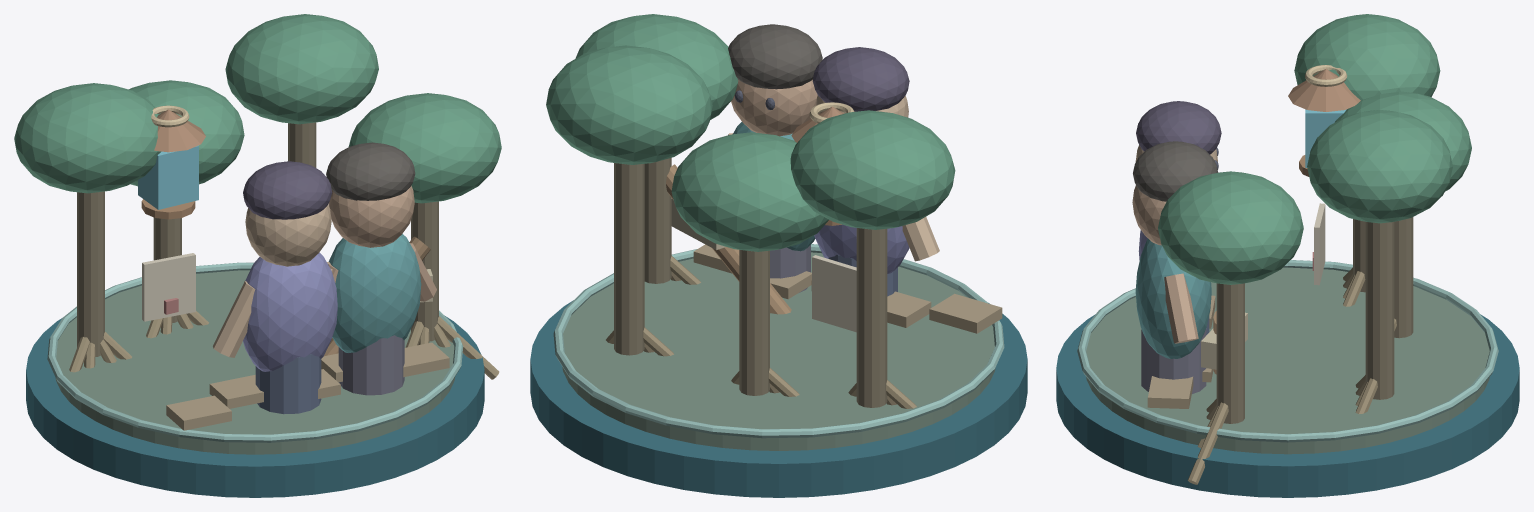
File: lanterns-of-luntian-bay-scene-2.glb
3 renders of one model, left to right at view 1: azimuth 30°, elevation 25°; view 2: azimuth 150°, elevation 25°; view 3: azimuth 270°, elevation 25°, orthographic. The views are drawn at different scales.
Visible parts, largest first — view 1: shore or habitat, deep water plinth, mangrove 2 canopy, mangrove 0 canopy, mangrove 3 canopy, Mira coat, Tomas coat, outer waterline, mangrove 1 canopy, mangrove 0 trunk, Mira hair, Tomas hair (+17 smaller); view 2: shore or habitat, deep water plinth, mangrove 2 canopy, mangrove 0 canopy, mangrove 1 canopy, outer waterline, mangrove 3 canopy, mangrove 2 trunk, mangrove 0 trunk, Mira hair, Tomas hair, mangrove 1 trunk (+12 smaller); view 3: shore or habitat, deep water plinth, mangrove 2 canopy, mangrove 3 canopy, mangrove 0 canopy, outer waterline, mangrove 2 trunk, Tomas coat, mangrove 3 trunk, mangrove 1 canopy, Tomas hair, Mira hair (+12 smaller).
Part boxes in pixels (x1,y1,x2,y2): shore or habitat: (55,270,454,454); deep water plinth: (26,315,484,497); mangrove 2 canopy: (225,14,378,124); mangrove 0 canopy: (14,83,161,193); mangrove 3 canopy: (348,93,501,203); Mira coat: (243,252,337,371); Tomas coat: (328,234,421,352); outer waterline: (47,262,463,442); mangrove 1 canopy: (129,80,244,186); mangrove 0 trunk: (77,191,104,356); Mira hair: (243,161,332,219); Tomas hair: (326,142,415,200); shore or habitat: (562,252,995,450); deep water plinth: (530,301,1027,497); mangrove 2 canopy: (546,45,712,164); mangrove 0 canopy: (790,110,955,229); mangrove 1 canopy: (671,132,828,251); outer waterline: (553,244,1004,438); mangrove 3 canopy: (575,14,738,119); mangrove 2 trunk: (614,163,644,355); mangrove 0 trunk: (856,228,887,407); Mira hair: (812,47,909,111); Tomas hair: (728,24,822,89); mangrove 1 trunk: (739,250,769,395); shore or habitat: (1086,267,1489,454); deep water plinth: (1056,314,1519,497); mangrove 2 canopy: (1307,110,1452,223); mangrove 3 canopy: (1158,171,1303,284); mangrove 0 canopy: (1294,14,1440,100); outer waterline: (1077,260,1498,442); mangrove 2 trunk: (1365,222,1394,399); Tomas coat: (1135,238,1211,358); mangrove 3 trunk: (1216,283,1244,423); mangrove 1 canopy: (1335,91,1471,191); Tomas hair: (1133,141,1218,201); Mira hair: (1136,101,1221,154).
Size of the model in its own units: 0.78 by 0.5876 by 0.7592.
